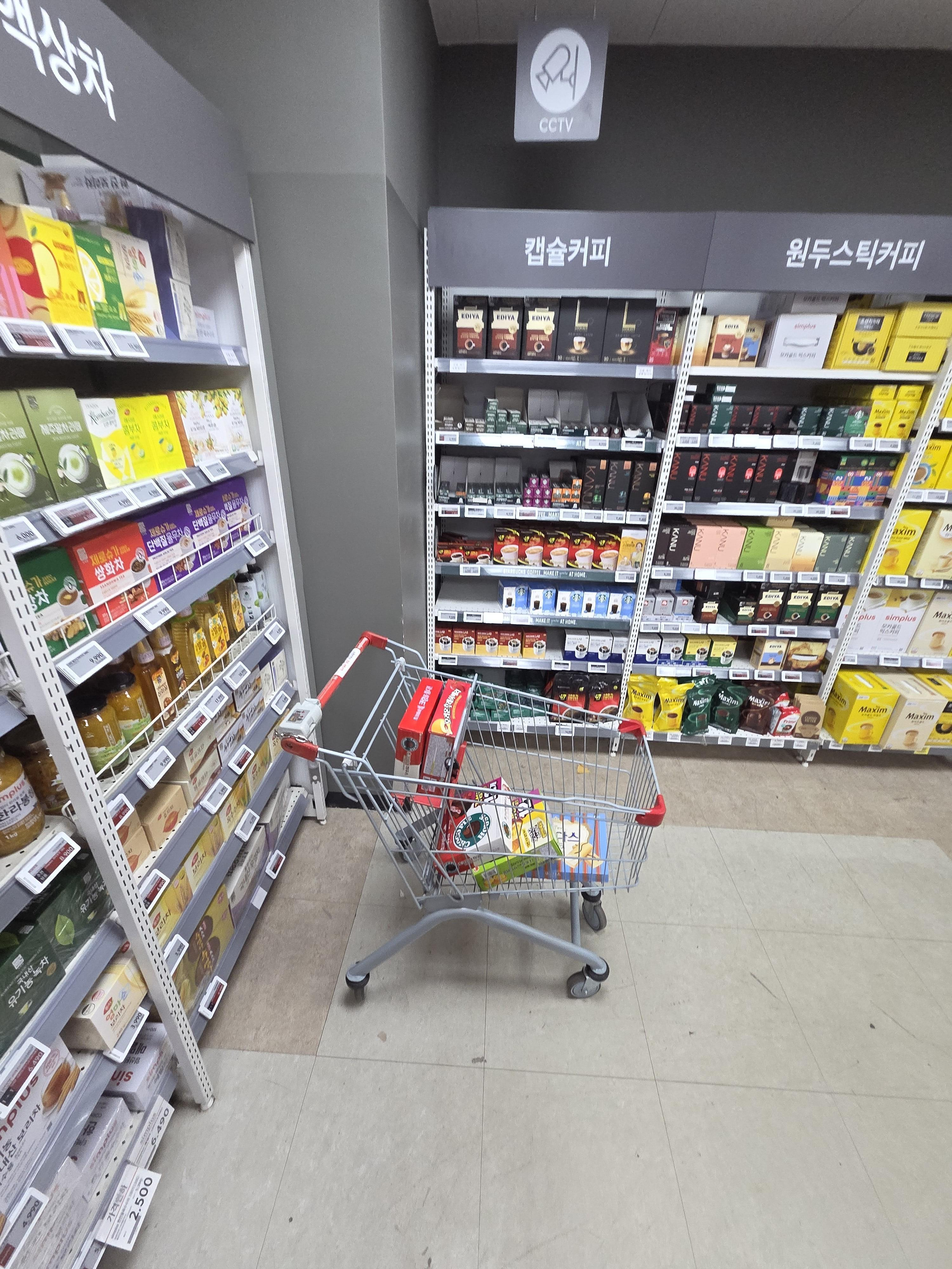fully_cart: (260, 611, 684, 1022)
